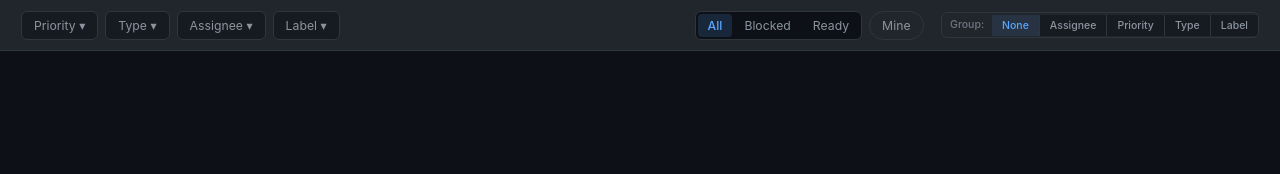
FilterBar › fetches labels on mount
The image size is (1280, 174).
Click the button with class "filter-btn" showing "Label ▾". click: click(306, 25)
box: [273,10,340,40]
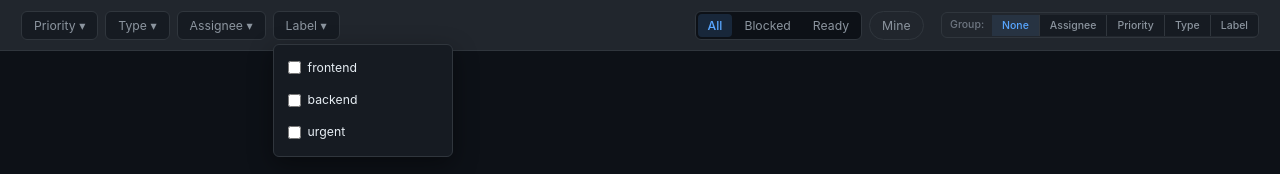
Now the text "frontend" is shown, box [308,58,357,77]
Now the text "backend" is shown, box [308,91,357,109]
